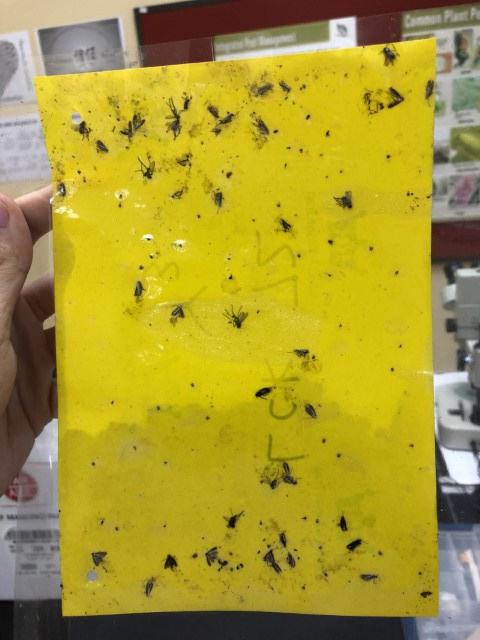DBM: (385, 84, 407, 111), (249, 117, 275, 139), (250, 384, 276, 405), (200, 546, 220, 568), (88, 550, 110, 570), (167, 301, 188, 321), (217, 111, 241, 128), (345, 537, 369, 554), (160, 553, 180, 573), (253, 82, 275, 100), (129, 111, 146, 133), (133, 279, 147, 305), (115, 120, 133, 140), (210, 188, 225, 212), (93, 137, 110, 157), (140, 578, 156, 599), (280, 474, 305, 487), (276, 79, 294, 97), (338, 508, 351, 532), (301, 402, 318, 420), (423, 77, 435, 102), (358, 572, 382, 584), (55, 180, 69, 200), (267, 560, 283, 577), (285, 551, 298, 570), (277, 530, 289, 549), (261, 547, 275, 562), (291, 348, 308, 360), (282, 459, 294, 475)
Other: (134, 153, 158, 184), (219, 506, 246, 533), (222, 302, 248, 328), (377, 44, 402, 69), (165, 116, 189, 142), (331, 188, 355, 210), (164, 97, 185, 122), (262, 473, 283, 494), (177, 94, 194, 115), (76, 120, 92, 142), (205, 105, 220, 122)
